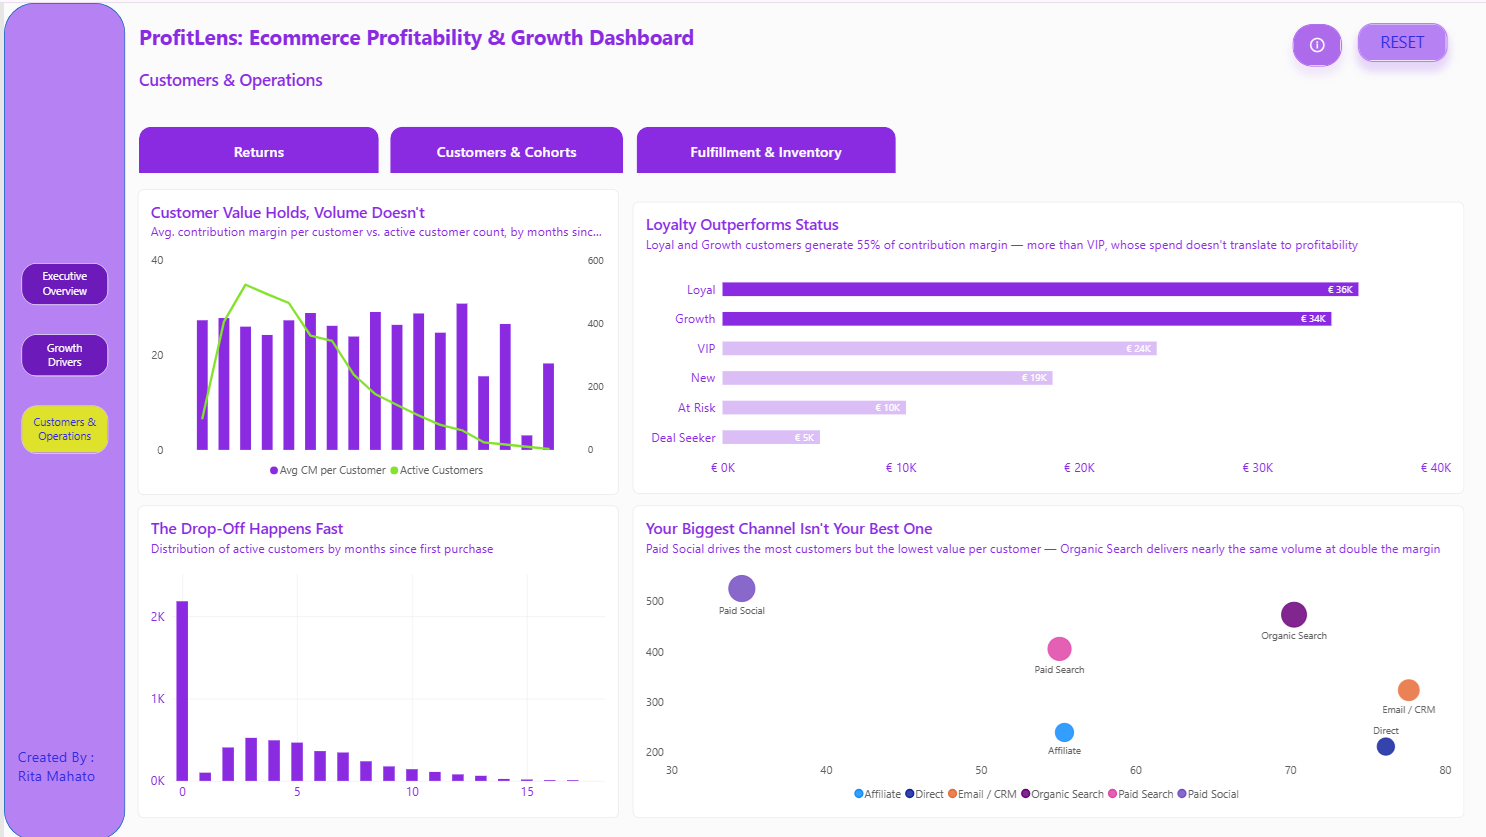

What the dashboard file says about the page in this screenshot:
{"tool":"powerbi","page":{"name":"Customers & Operations","canvas":[1920,1080],"ordinal":2},"visuals":[{"type":"shape","box":[0,0,156.4,1080.6],"z":0},{"type":"actionButton","box":[22,336,112,54],"z":1000},{"type":"actionButton","box":[22,428,112,54],"z":2000},{"type":"actionButton","box":[22,520,112,62],"z":3000},{"type":"actionButton","box":[1746,26,116,50],"z":4000},{"type":"textbox","box":[18.1,959.1,119.4,57.9],"z":5000},{"type":"textbox","box":[173.7,25.3,789,70.6],"z":6000},{"type":"actionButton","title":"Product Button","box":[173.7,159.3,309.5,59.7],"z":7000},{"type":"actionButton","title":"Product Button","box":[497.7,159.3,300.4,59.7],"z":8000},{"type":"actionButton","title":"Product Button","box":[816.2,159.3,334.8,59.7],"z":9000},{"type":"scatterChart","title":"The Return Rate Trade-Off","fields":{"Series":["DimProduct.Category"],"Size":["Measures (2).Return Loss"],"X":["Measures (2).Return Rate %"],"Y":["Measures (2).CM %"]},"box":[171.9,240.7,977.2,356.5],"z":10000},{"type":"donutChart","title":"Return Loss: Where the Money Is Actually Going","fields":{"Category":["DimReturnReason.ReturnReasonGroup","DimReturnReason.ReturnReason"],"Y":["Measures (2).Return Loss"]},"box":[1163.6,240.7,720.2,356.5],"z":11000},{"type":"clusteredBarChart","title":"Return Loss Is a Two-Category Problem","fields":{"Category":["DimProduct.Category"],"Y":["Measures (2).Return Loss"]},"box":[171.9,624.3,875.9,427.1],"z":12000},{"type":"clusteredColumnChart","title":"At Risk and Deal Seeker Segments Drive the Highest Returns","fields":{"Category":["DimCustomer.CustomerSegment"],"Y":["Measures (2).Return Rate %"]},"box":[1078.6,624.3,805.3,427.1],"z":13000},{"type":"kpi","title":"Return Loss vs. Target","fields":{"Goal":["Measures (2).Target Loss"],"Indicator":["Measures (2).Return Loss"],"TrendLine":["DimDate.YearWeek"]},"box":[1280,26,352,162],"z":14000},{"type":"slicer","title":"Select Date","fields":{"Values":["DimDate.YearMonth"]},"box":[1064.1,25.3,190,88],"z":15000},{"type":"actionButton","box":[1663.6,28.2,62.9,54.2],"z":22000},{"type":"textbox","title":"Page Name Text box","box":[173.7,83.2,266,45.2],"z":27000}]}

Visuals, with their boxes in screenshot pixels (x1, y1, x2, y2), scaled from the page's 1920x1080 canvas onto the 1486x837 screenshot:
shape: box(0, 0, 121, 836)
actionButton: box(17, 260, 104, 302)
actionButton: box(17, 332, 104, 374)
actionButton: box(17, 403, 104, 451)
actionButton: box(1351, 20, 1441, 59)
textbox: box(14, 743, 106, 788)
textbox: box(134, 20, 745, 74)
"Product Button" actionButton: box(134, 123, 374, 170)
"Product Button" actionButton: box(385, 123, 618, 170)
"Product Button" actionButton: box(632, 123, 891, 170)
"The Return Rate Trade-Off" scatterChart: box(133, 187, 889, 463)
"Return Loss: Where the Money Is Actually Going" donutChart: box(901, 187, 1458, 463)
"Return Loss Is a Two-Category Problem" clusteredBarChart: box(133, 484, 811, 815)
"At Risk and Deal Seeker Segments Drive the Highest Returns" clusteredColumnChart: box(835, 484, 1458, 815)
"Return Loss vs. Target" kpi: box(991, 20, 1263, 146)
"Select Date" slicer: box(824, 20, 971, 88)
actionButton: box(1288, 22, 1336, 64)
"Page Name Text box" textbox: box(134, 64, 340, 100)
